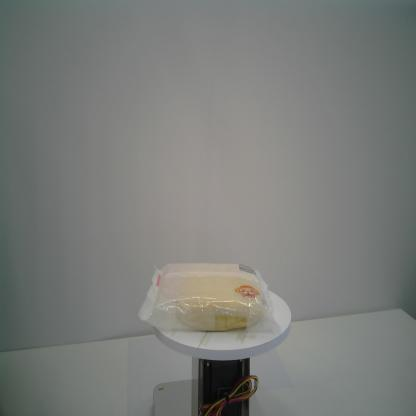Dessert: (137, 260, 284, 338)
